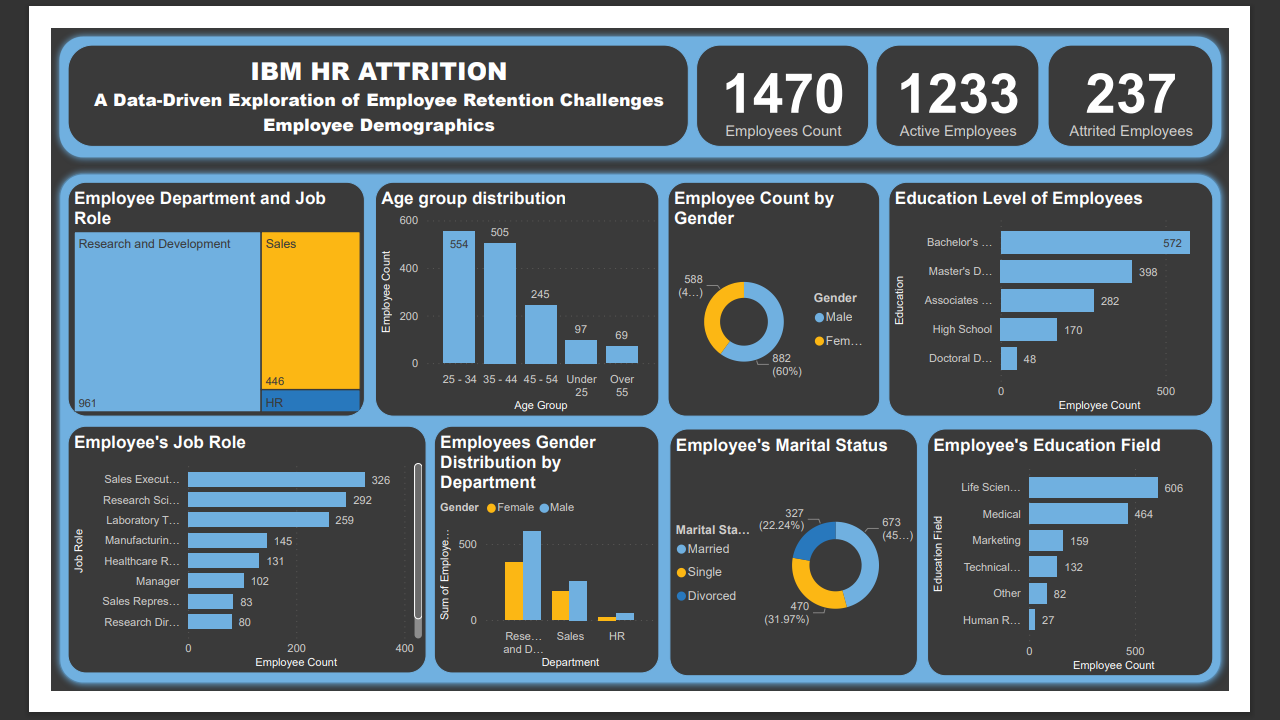

The page's visual inventory and layout, read from the dashboard file:
{"tool":"powerbi","page":{"name":"Page 1","canvas":[1280,720],"ordinal":0},"visuals":[{"type":"shape","box":[0,148.6,1280,571.8],"z":0},{"type":"shape","box":[0,0,1280,148.6],"z":1000},{"type":"card","fields":{"Values":["CountNonNull(Table1.Attrition)"]},"box":[1082.8,18.2,180.5,110.7],"z":2000},{"type":"card","fields":{"Values":["CountNonNull(Table1.Attrition)"]},"box":[700.7,18.2,188.1,110.7],"z":3000},{"type":"card","fields":{"Values":["CountNonNull(Table1.Attrition)"]},"box":[896.3,18.2,177.4,110.7],"z":4000},{"type":"treemap","title":"Employee''s Department ","fields":{"Group":["Table1.Department"],"Values":["Sum(Table1.Employee Count)"]},"box":[18.2,166.8,323,254.8],"z":5000},{"type":"donutChart","title":"Employee Count by Gender","fields":{"Category":["Table1.Gender"],"Y":["Sum(Table1.Employee Count)"]},"box":[670.3,166.8,230.5,254.8],"z":6000},{"type":"columnChart","title":"Age group distribution","fields":{"Category":["Table1.CF_age band"],"Y":["Sum(Table1.Employee Count)"]},"box":[351.8,166.8,309.4,254.8],"z":7000},{"type":"barChart","title":"Education Level of Employees","fields":{"Category":["Table1.Education"],"Y":["Sum(Table1.Employee Count)"]},"box":[910,166.8,353.4,254.8],"z":8000},{"type":"clusteredColumnChart","title":"Employees Gender Distribution by Department","fields":{"Category":["Table1.Department"],"Y":["Sum(Table1.Employee Count)"],"Series":["Table1.Gender"]},"box":[415.5,432.2,245.7,268.4],"z":9000},{"type":"donutChart","title":"Employee''s Marital Status","fields":{"Category":["Table1.Marital Status"],"Y":["Sum(Table1.Employee Count)"]},"box":[671.8,435.3,270,268.4],"z":10000},{"type":"barChart","title":"Employee''s Education Field","fields":{"Category":["Table1.Education Field"],"Y":["Sum(Table1.Employee Count)"]},"box":[952.4,435.3,310.9,268.4],"z":11000},{"type":"barChart","title":"Employee''s Job Role","fields":{"Category":["Table1.Job Role"],"Y":["Sum(Table1.Employee Count)"]},"box":[18.2,432.2,389.8,268.4],"z":12000},{"type":"textbox","box":[18.2,18.2,674.9,110.7],"z":13000}]}

Visuals, with their boxes in screenshot pixels (x1, y1, x2, y2), scaled from the page's 1280x720 canvas onto the 1280x720 screenshot:
shape: select_region(0, 149, 1279, 719)
shape: select_region(0, 0, 1279, 149)
card - CountNonNull(Table1.Attrition): select_region(1083, 18, 1263, 129)
card - CountNonNull(Table1.Attrition): select_region(701, 18, 889, 129)
card - CountNonNull(Table1.Attrition): select_region(896, 18, 1074, 129)
"Employee''s Department " treemap: select_region(18, 167, 341, 422)
"Employee Count by Gender" donutChart: select_region(670, 167, 901, 422)
"Age group distribution" columnChart: select_region(352, 167, 661, 422)
"Education Level of Employees" barChart: select_region(910, 167, 1263, 422)
"Employees Gender Distribution by Department" clusteredColumnChart: select_region(416, 432, 661, 701)
"Employee''s Marital Status" donutChart: select_region(672, 435, 942, 704)
"Employee''s Education Field" barChart: select_region(952, 435, 1263, 704)
"Employee''s Job Role" barChart: select_region(18, 432, 408, 701)
textbox: select_region(18, 18, 693, 129)
